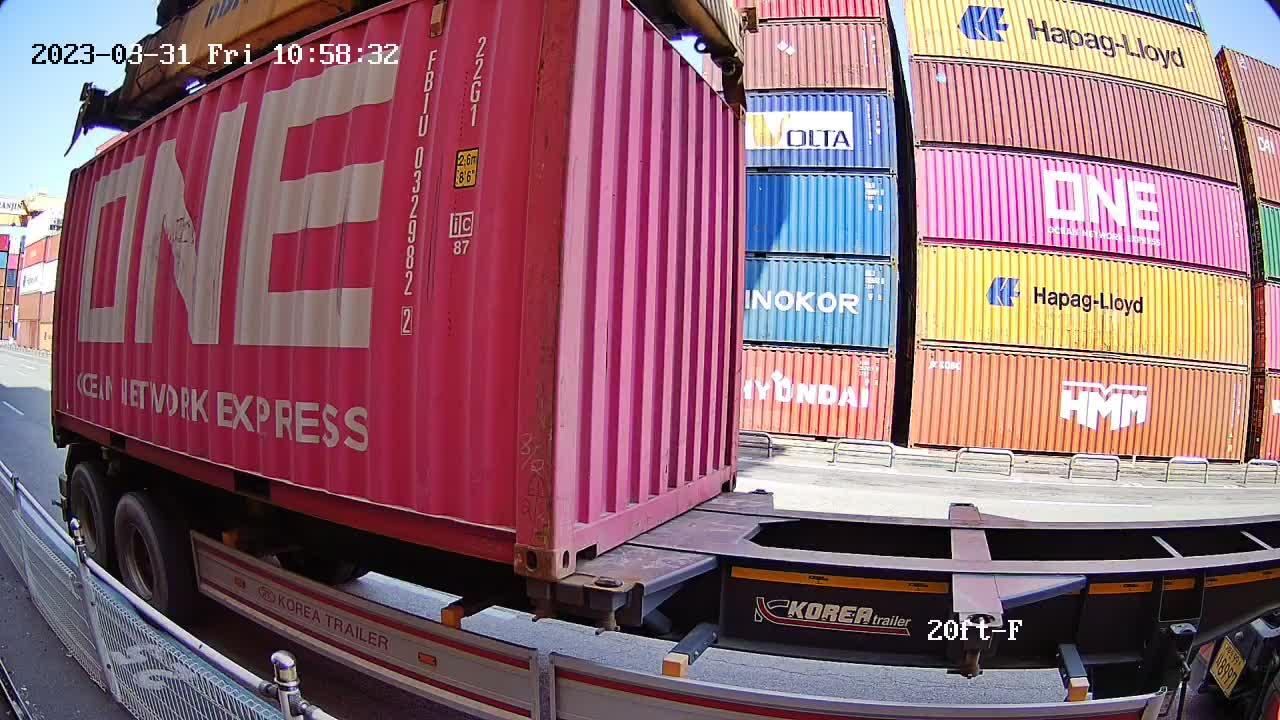Chassis: (587, 492, 770, 592)
Cone: (590, 575, 629, 636), (525, 575, 553, 621)
Hole_L: (553, 498, 597, 580)
Hole_R: (487, 497, 553, 581), (715, 453, 738, 495)
Tire: (117, 499, 169, 616), (69, 465, 109, 566)
